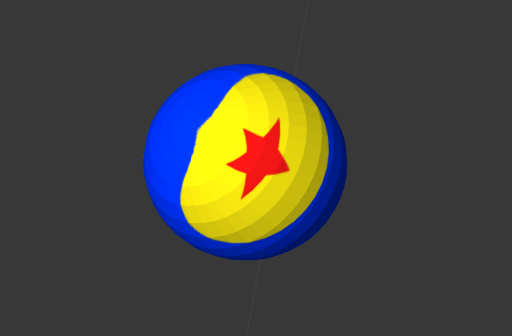toy story ball: (143, 65, 348, 260)
